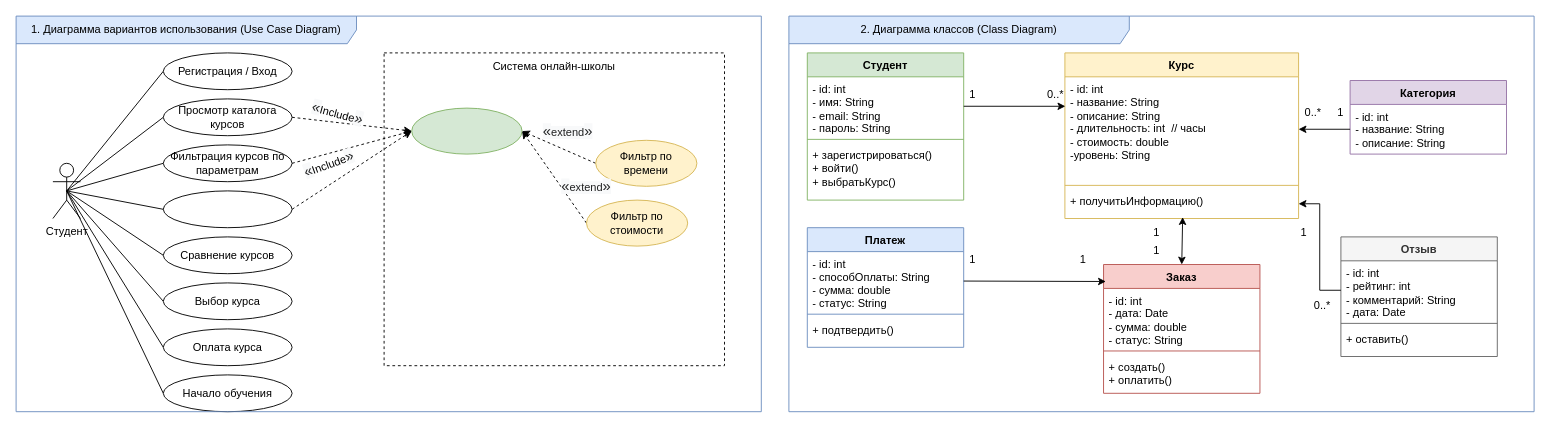
This 1550x428 diagram has some shape labels left out. Here are the shapes that lost their labels. From the top down, the centre of each, then its label:
At point 466,130: "Поиск курса".
At point 227,209: "Просмотр информации о курсе".
